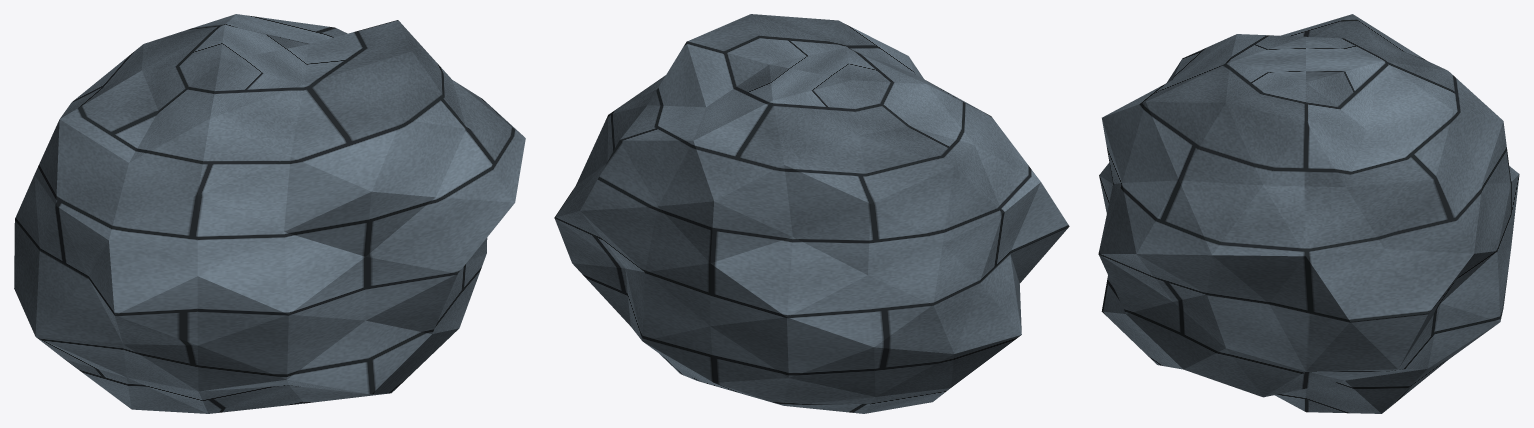
Rendered from moor-rock-2.glb.
3 renders of one model, left to right at view 1: azimuth 30°, elevation 25°; view 2: azimuth 150°, elevation 25°; view 3: azimuth 270°, elevation 25°, orthographic. The views are drawn at different scales.
Parts seen in each view (by area): view 1: moor-rock-2; view 2: moor-rock-2; view 3: moor-rock-2.
Part boxes in pixels (box(x1,y1,x2,y2)): moor-rock-2: box(14, 14, 525, 413); moor-rock-2: box(554, 14, 1069, 413); moor-rock-2: box(1098, 14, 1519, 413).
Size of the model in its own units: 2.02 by 1.47 by 1.68.
1 material, 1 textured.
